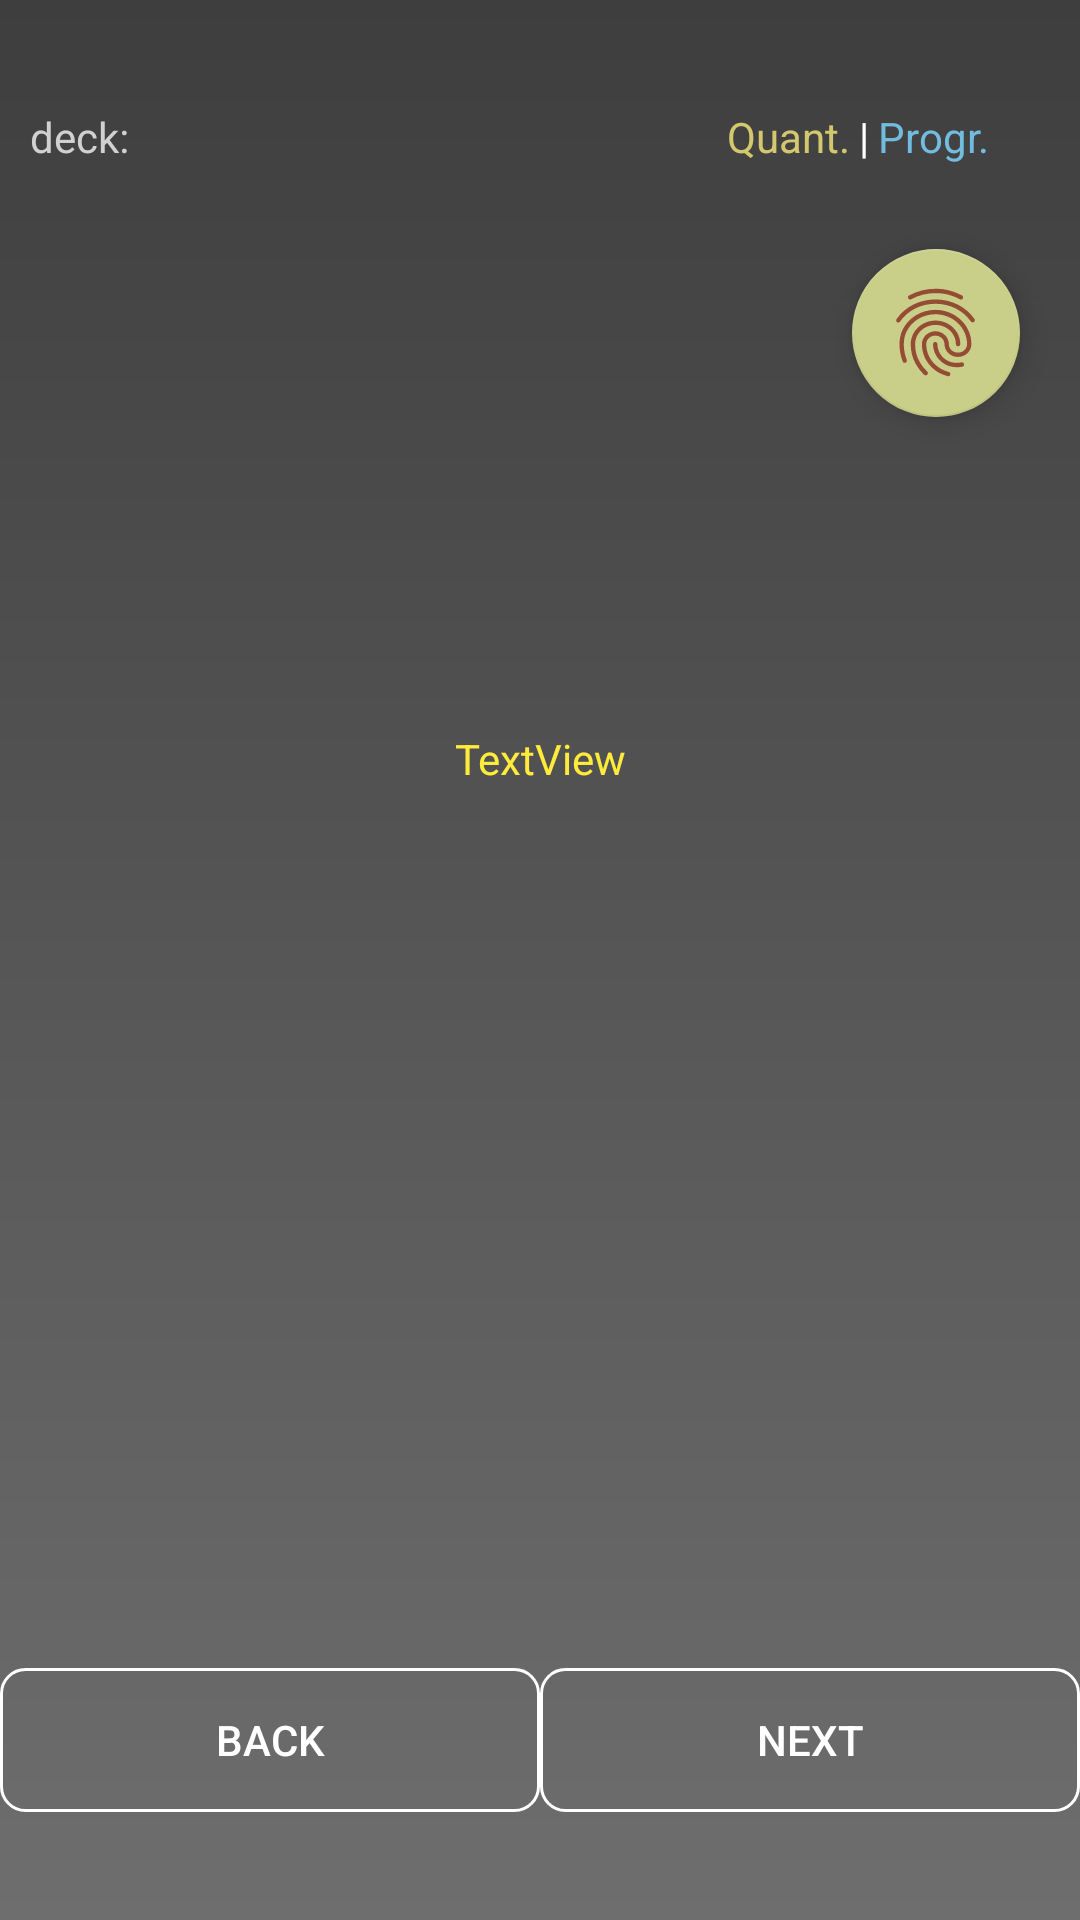

Where to tap for icons on this 1080w x 1920h app screen, as (x=x, y=y):
fingerprint: (x=936, y=333)
